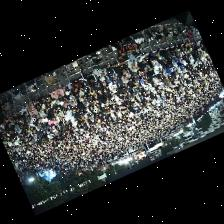person: (79, 64, 97, 84), (147, 53, 163, 71), (145, 64, 158, 81), (152, 50, 165, 64), (113, 61, 126, 75), (127, 52, 137, 70), (117, 67, 128, 82), (82, 81, 92, 97), (51, 88, 64, 100), (127, 66, 139, 79), (139, 68, 148, 84), (165, 63, 177, 75), (94, 67, 106, 79), (137, 54, 148, 67), (107, 78, 117, 92), (79, 87, 87, 104), (71, 79, 81, 92), (168, 46, 179, 57), (121, 84, 131, 96), (160, 49, 172, 59), (127, 58, 137, 70), (39, 107, 48, 120), (29, 107, 38, 119), (42, 95, 51, 107), (92, 82, 101, 94), (32, 98, 41, 110), (49, 106, 59, 116), (172, 55, 182, 65), (117, 78, 128, 87), (12, 111, 21, 122), (50, 97, 59, 108), (106, 64, 113, 78), (21, 104, 28, 118), (163, 66, 171, 78), (70, 88, 79, 98), (172, 58, 180, 69), (63, 83, 71, 94), (98, 76, 106, 87), (163, 75, 171, 85), (56, 110, 63, 121), (69, 94, 76, 105), (49, 117, 56, 128), (112, 68, 117, 83), (4, 118, 13, 126), (91, 88, 97, 100), (62, 94, 69, 104), (7, 113, 14, 123), (113, 40, 121, 48), (42, 103, 48, 113), (59, 100, 67, 107), (185, 42, 192, 50), (18, 118, 23, 128), (191, 41, 198, 48), (36, 112, 41, 121)
